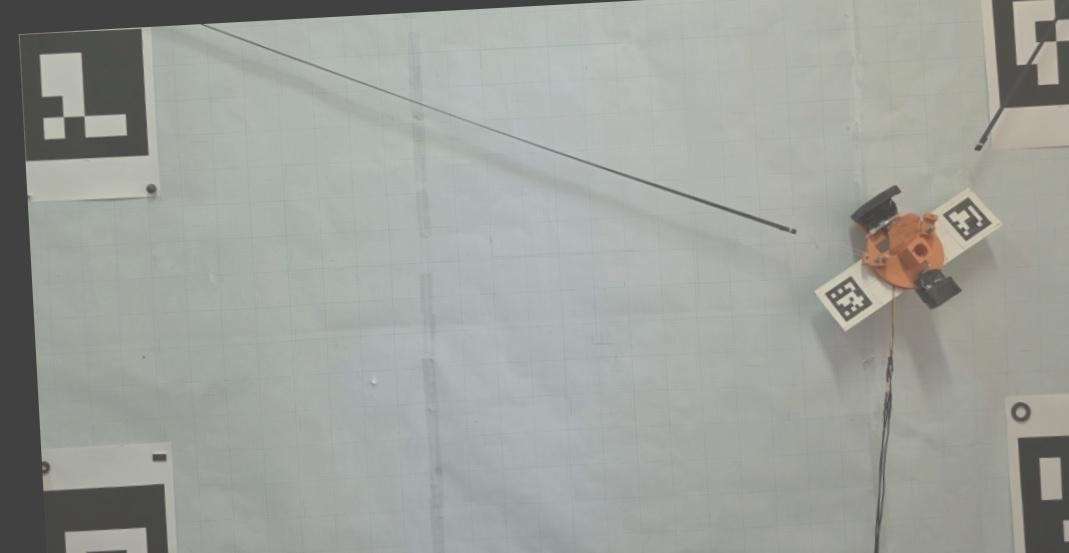robot: (849, 185, 962, 310)
